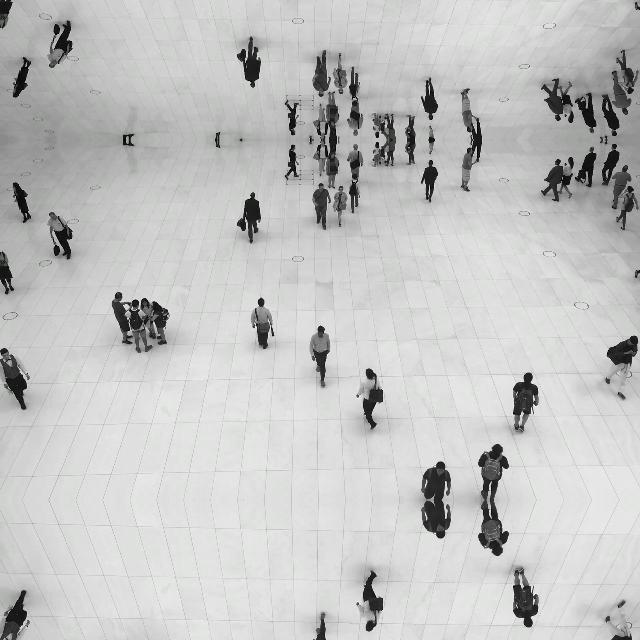person: (605, 336, 639, 400), (0, 347, 30, 410), (478, 444, 510, 501), (478, 499, 510, 556), (356, 368, 384, 430), (356, 570, 384, 632), (512, 372, 540, 432), (512, 568, 540, 628), (0, 589, 30, 640), (124, 299, 152, 353), (605, 599, 639, 640), (309, 325, 331, 387), (236, 192, 262, 244), (236, 36, 262, 88), (420, 460, 452, 500), (420, 500, 452, 540), (47, 212, 73, 260), (250, 298, 274, 350), (47, 20, 73, 68), (111, 292, 133, 344), (146, 302, 170, 346), (540, 158, 564, 202), (616, 186, 640, 230), (540, 78, 564, 122), (616, 50, 640, 94), (611, 164, 633, 210), (611, 70, 633, 116), (312, 183, 332, 231), (312, 49, 332, 97), (12, 182, 32, 222), (12, 58, 32, 98), (140, 298, 158, 340), (421, 160, 439, 202), (579, 147, 597, 189), (602, 144, 620, 186), (421, 78, 439, 120), (579, 91, 597, 133), (602, 94, 620, 136), (347, 143, 365, 184), (347, 96, 365, 136), (460, 148, 476, 192), (460, 88, 476, 132), (333, 185, 349, 227), (333, 53, 349, 95), (312, 140, 330, 177), (312, 104, 330, 140), (0, 251, 14, 295), (309, 613, 331, 640), (560, 156, 574, 198), (560, 82, 574, 124), (284, 144, 300, 180), (284, 100, 300, 136), (325, 152, 339, 188), (325, 92, 339, 128), (348, 174, 360, 214), (348, 66, 360, 106), (0, 0, 14, 29), (385, 140, 397, 167), (404, 140, 416, 166), (385, 114, 397, 140), (404, 114, 416, 140), (470, 116, 482, 140), (470, 140, 482, 163), (378, 140, 388, 166), (378, 114, 388, 140), (371, 142, 381, 166), (371, 114, 381, 138), (328, 140, 339, 158), (328, 122, 339, 140), (428, 140, 436, 154), (428, 126, 436, 140), (123, 140, 135, 146), (123, 134, 135, 140), (634, 268, 640, 278), (634, 2, 640, 12), (215, 140, 221, 148), (215, 132, 221, 140), (600, 140, 608, 144), (600, 136, 608, 140)
